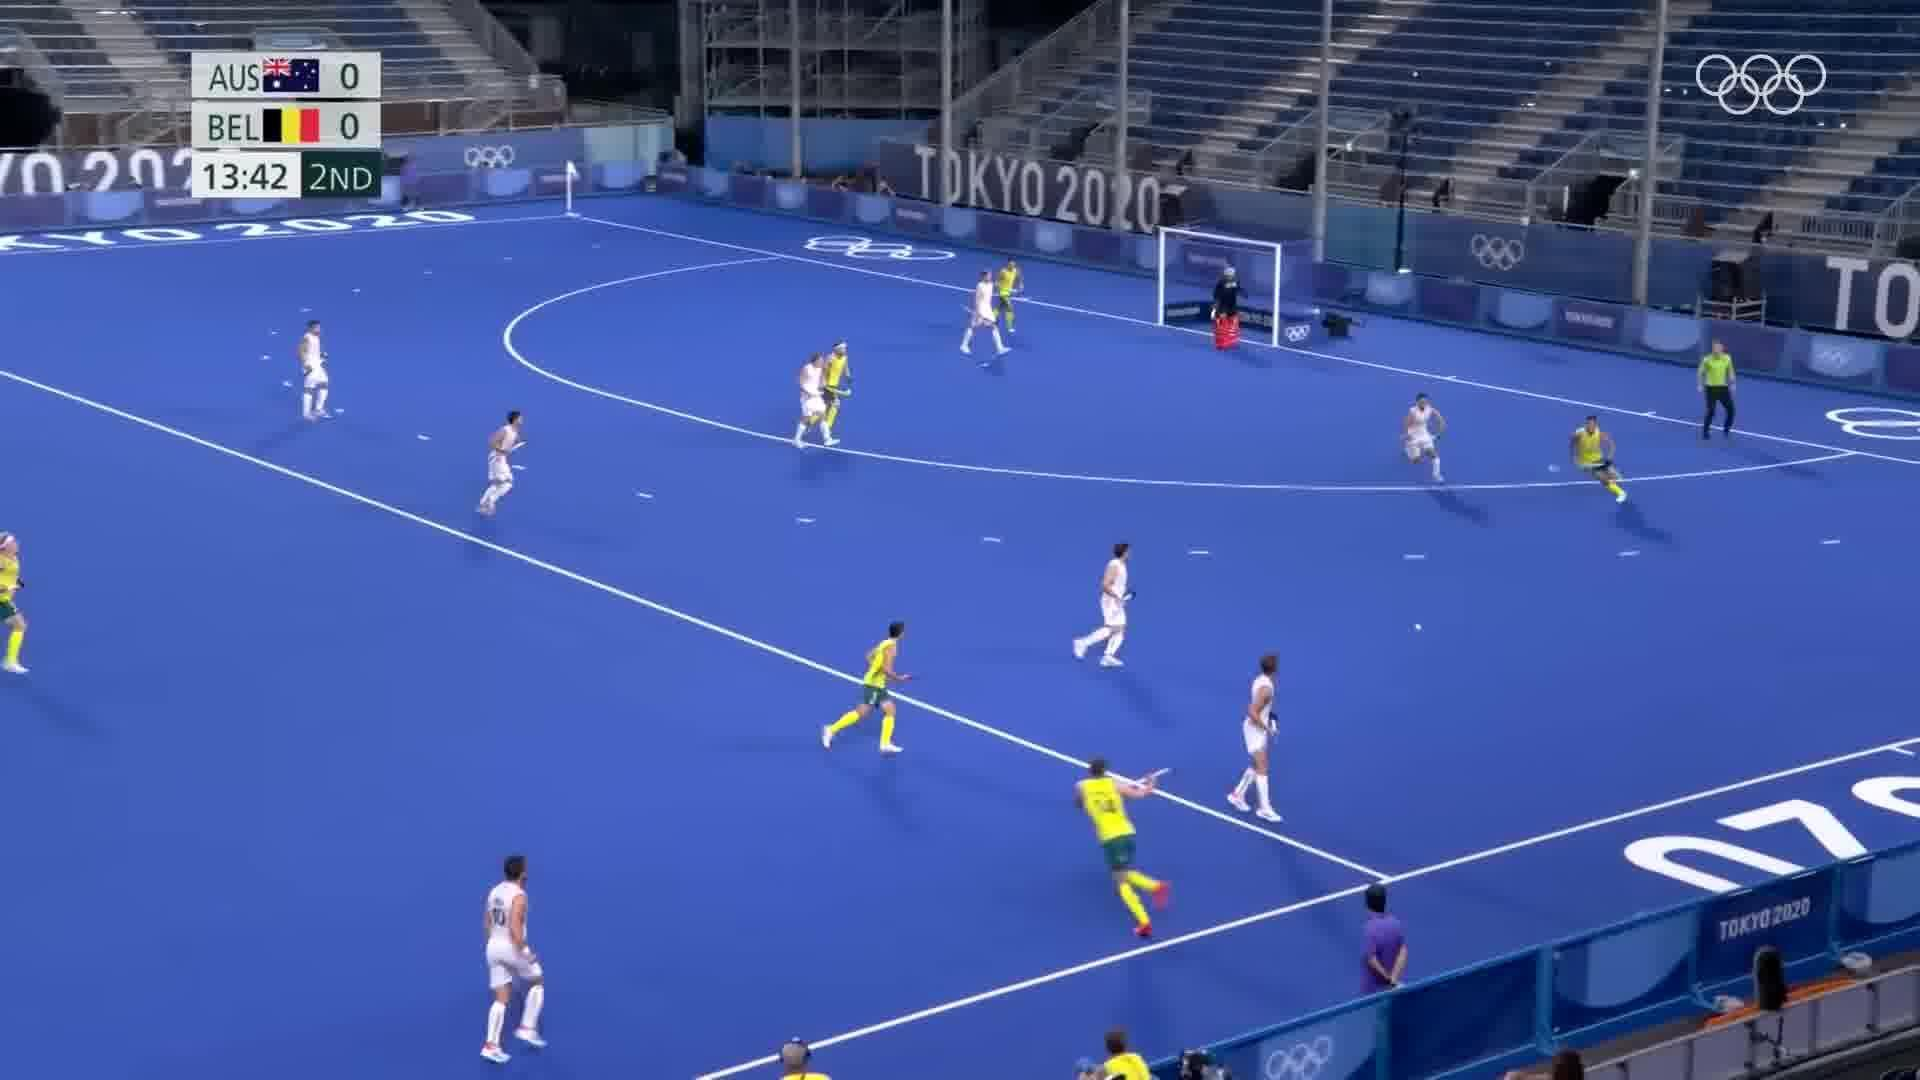ball: (1406, 618, 1439, 642)
